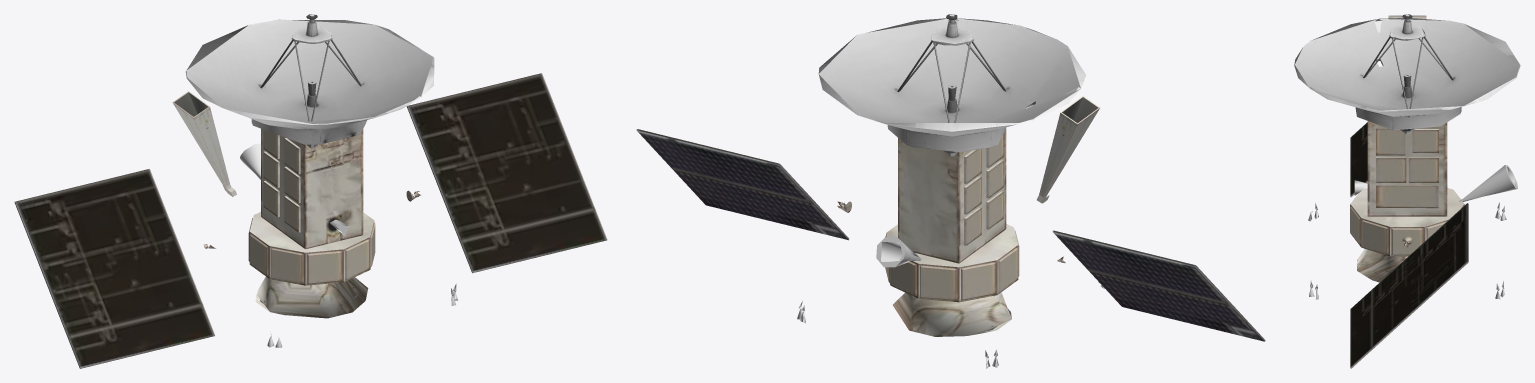
File: magellan.glb
3 views of the same model, side by side, from view 1: azimuth 30°, elevation 25°; view 2: azimuth 150°, elevation 25°; view 3: azimuth 270°, elevation 25° (orthographic). The views are drawn at different scales.
Visible parts, largest first — view 1: tex_01, dish_etc, aluminum; view 2: dish_etc, tex_01, shiny_panel, aluminum; view 3: tex_01, dish_etc, aluminum, aluminum.001.
Part boxes in pixels (<box>): tex_01: <box>14,73,607,368</box>; dish_etc: <box>185,14,434,148</box>; aluminum: <box>240,143,260,179</box>; dish_etc: <box>818,14,1085,156</box>; tex_01: <box>636,96,1265,341</box>; shiny_panel: <box>637,130,1264,341</box>; aluminum: <box>876,236,922,267</box>; tex_01: <box>1350,15,1468,368</box>; dish_etc: <box>1294,14,1520,134</box>; aluminum: <box>1459,165,1517,201</box>; aluminum.001: <box>1308,180,1506,299</box>.
Size of the model in its own units: 8.9 by 4.53 by 3.7.
Materials: 4 (3 with a texture image).
